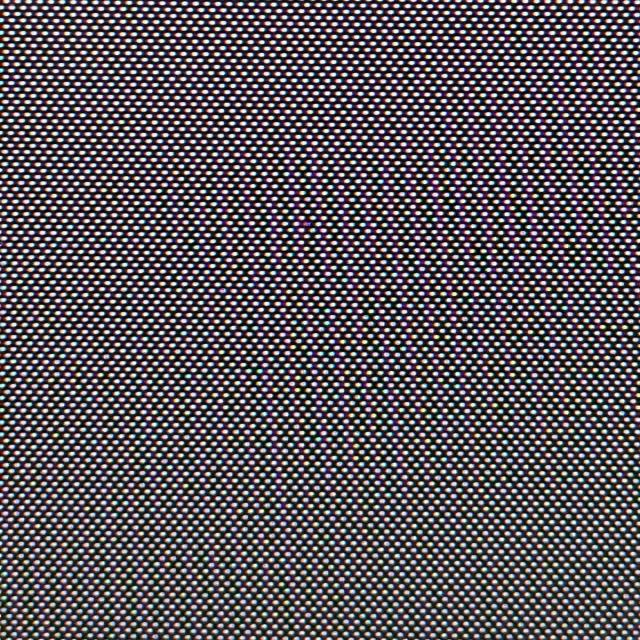Dead pixel: (302, 221, 312, 227)
